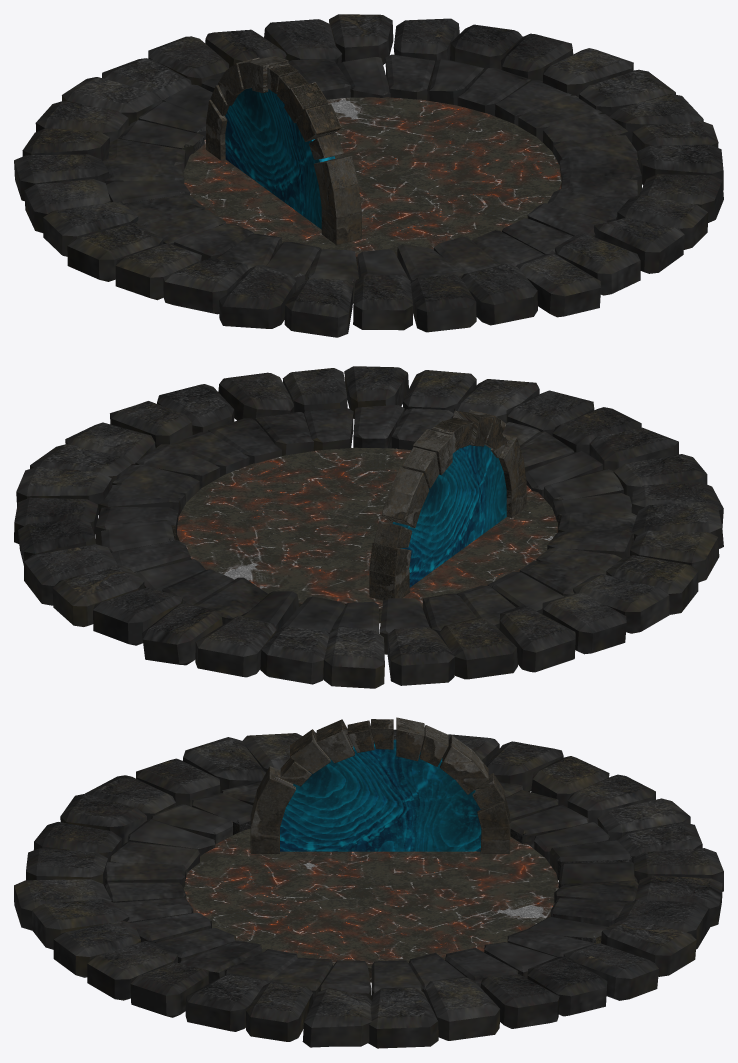
The model's file is PortalCircular.fbx.
3 renders of one model, top to bottom at view 1: azimuth 30°, elevation 25°; view 2: azimuth 150°, elevation 25°; view 3: azimuth 270°, elevation 25°, orthographic.
Visible parts, largest first — view 1: CirculoExterior, CirculoInterior, CirculoBase, ArcoPortal, Portal; view 2: CirculoExterior, CirculoInterior, CirculoBase, ArcoPortal, Portal; view 3: CirculoExterior, CirculoInterior, CirculoBase, Portal, ArcoPortal.
Boxes of the visible parts, x1=… form: CirculoExterior: x1=14, y1=14, x2=723, y2=337; CirculoInterior: x1=102, y1=54, x2=641, y2=303; CirculoBase: x1=183, y1=97, x2=561, y2=269; ArcoPortal: x1=206, y1=56, x2=361, y2=245; Portal: x1=224, y1=88, x2=335, y2=229; CirculoExterior: x1=14, y1=366, x2=723, y2=688; CirculoInterior: x1=95, y1=405, x2=636, y2=654; CirculoBase: x1=176, y1=447, x2=557, y2=623; ArcoPortal: x1=369, y1=409, x2=526, y2=600; Portal: x1=392, y1=445, x2=506, y2=587; CirculoExterior: x1=14, y1=729, x2=723, y2=1048; CirculoInterior: x1=104, y1=781, x2=638, y2=1002; CirculoBase: x1=183, y1=828, x2=558, y2=982; Portal: x1=280, y1=739, x2=482, y2=851; ArcoPortal: x1=250, y1=717, x2=510, y2=853.
Bounding box in the file's own units: 5838 × 1311 × 5881.
5 materials, 5 textured.
